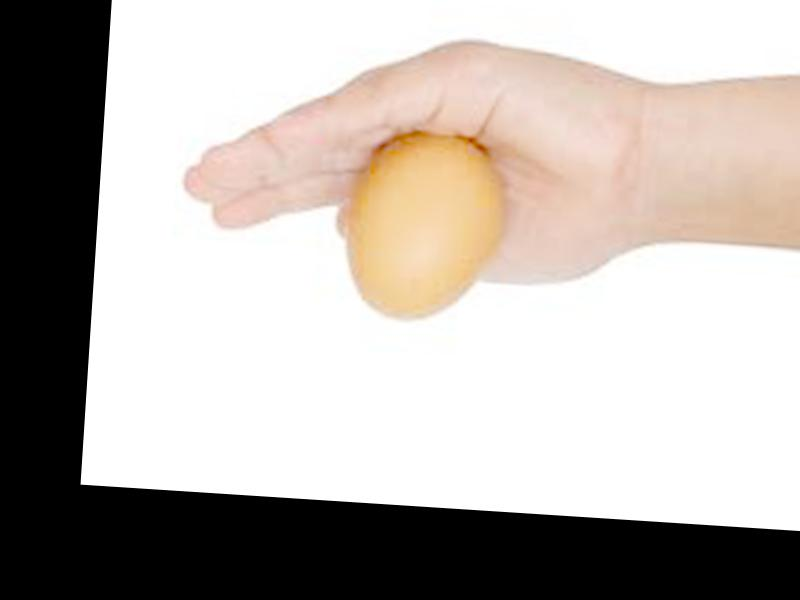Eggs: (341, 125, 507, 327)
